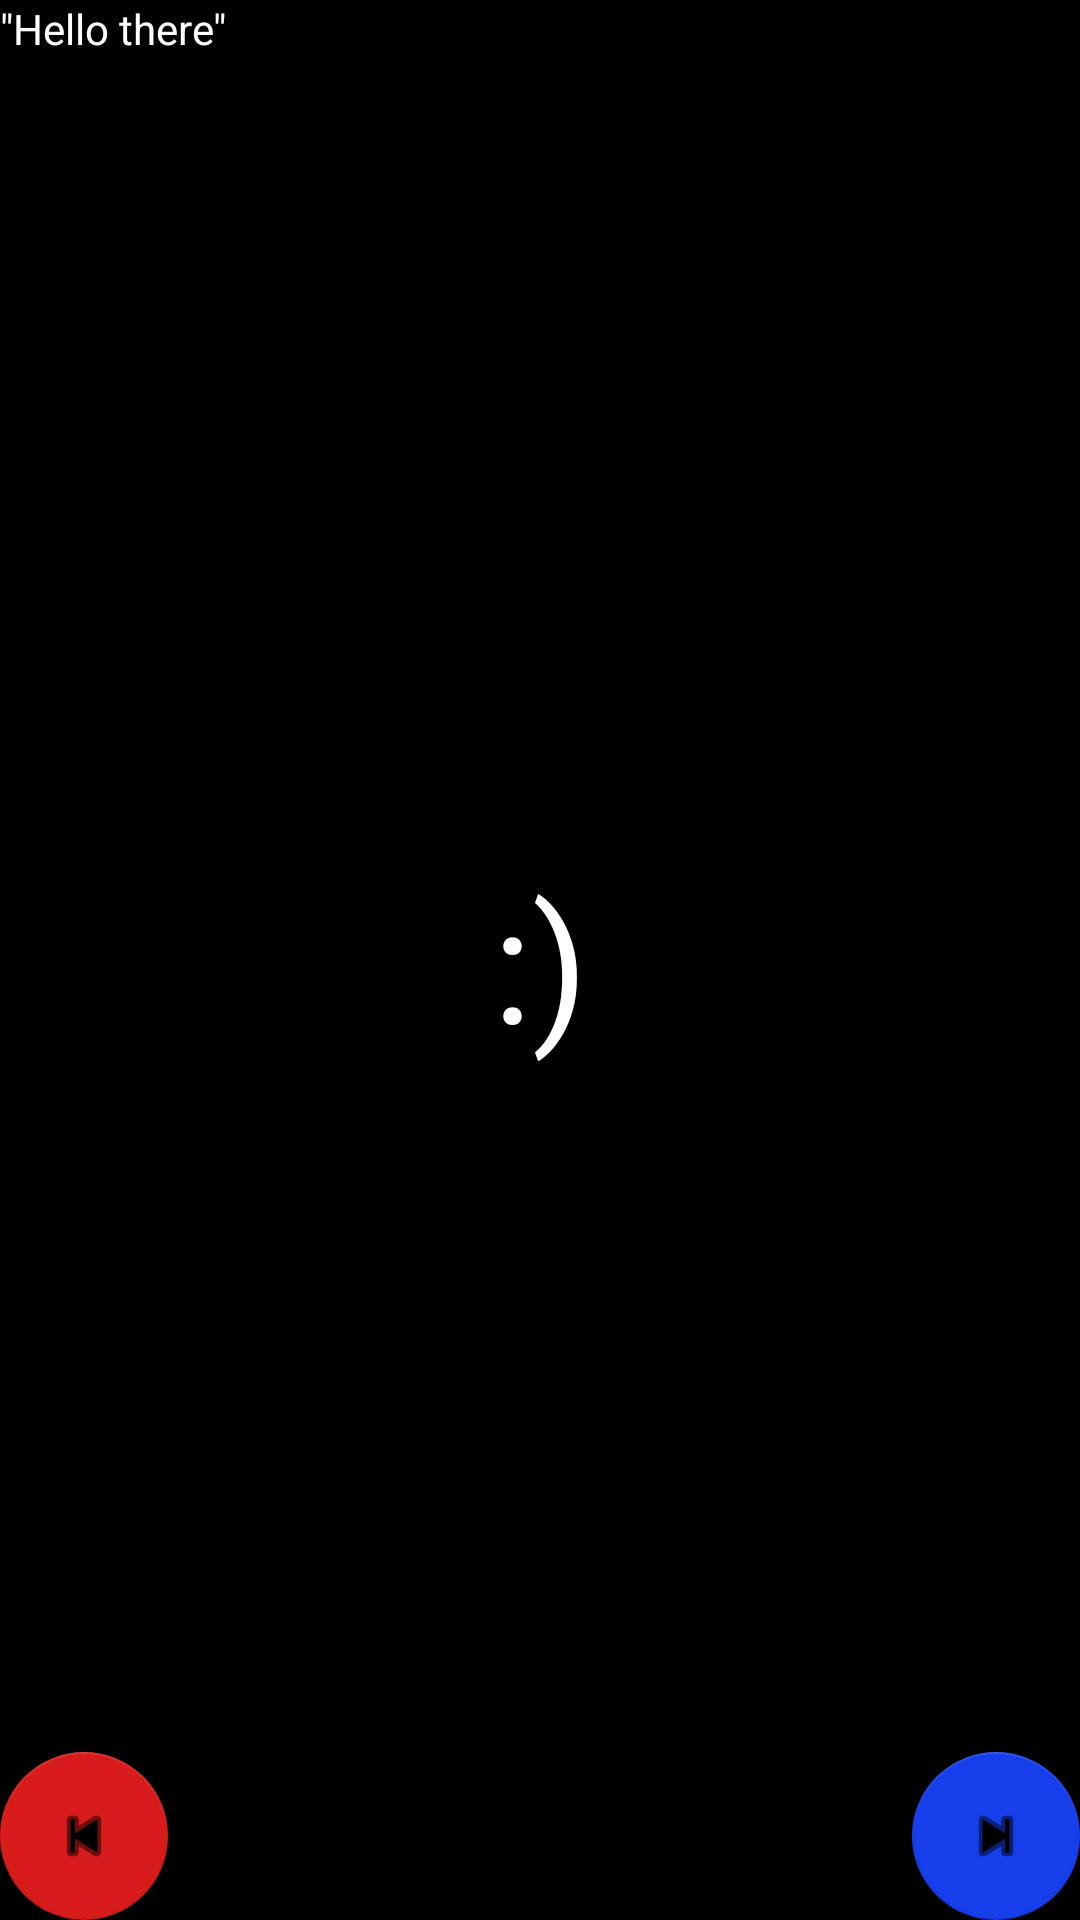

Where to tap for icons on this 1080px x 1920px app screen, as (x=x, y=y):
next: (x=996, y=1836)
previous: (x=84, y=1836)
